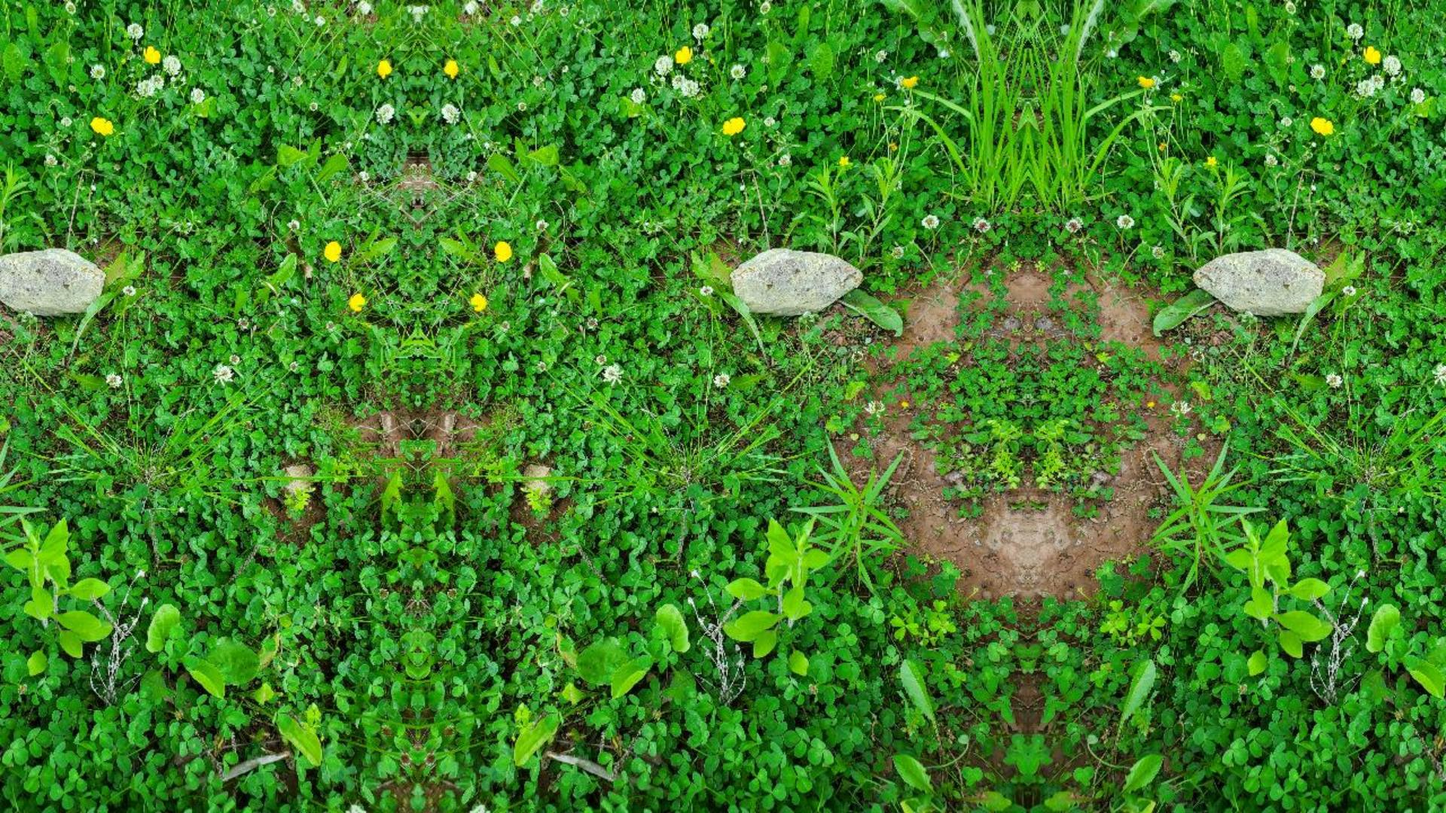rock: (1193, 248, 1324, 315), (731, 248, 861, 315), (0, 248, 103, 315)
